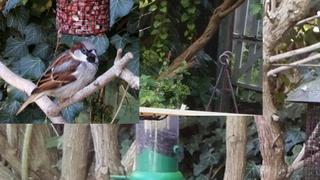sparrow: (14, 40, 99, 116)
